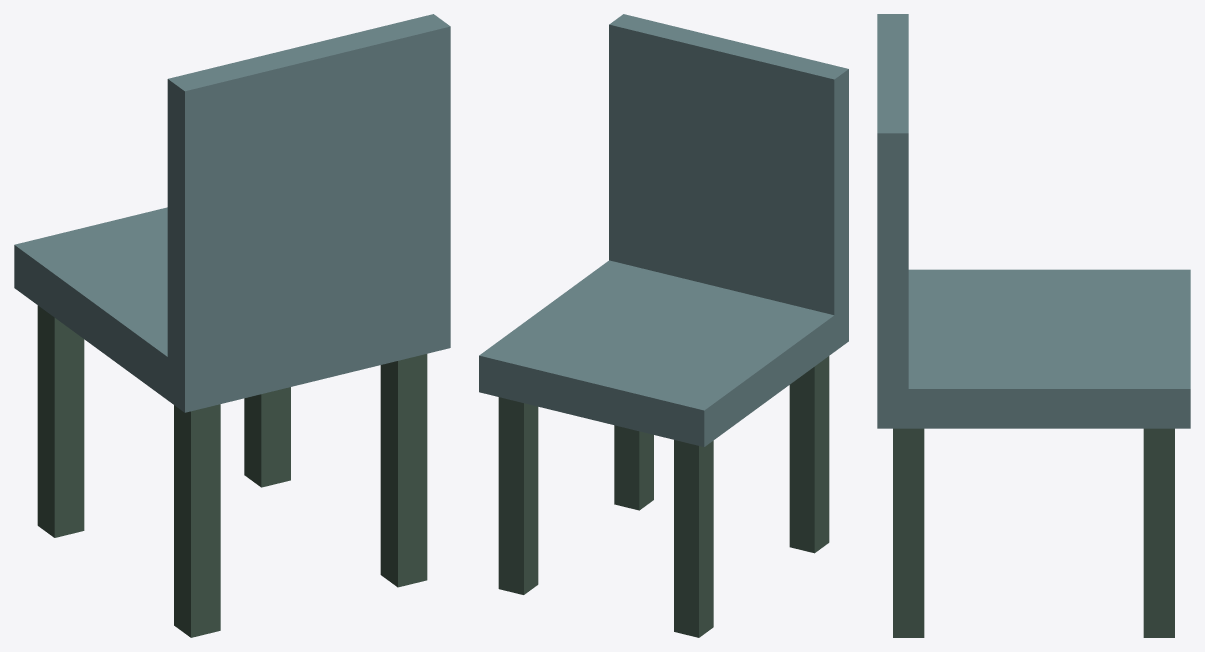
3 views of the same model, side by side, from view 1: azimuth 30°, elevation 25°; view 2: azimuth 150°, elevation 25°; view 3: azimuth 270°, elevation 25° (orthographic). The views are drawn at different scales.
Visible parts, largest first — view 1: back, seat, leg-1-1, leg-0-1, leg-0-0, leg-1-0; view 2: back, seat, leg-1-0, leg-0-0, leg-0-1, leg-1-1; view 3: seat, back, leg-1-0, leg-1-1.
Boxes of the visible parts, x1,y1,x2,y2 form: back: [167, 14, 450, 369]; seat: [14, 207, 450, 412]; leg-1-1: [380, 354, 427, 587]; leg-0-1: [174, 404, 220, 637]; leg-0-0: [37, 305, 84, 537]; leg-1-0: [244, 387, 290, 487]; back: [609, 14, 848, 315]; seat: [479, 260, 848, 446]; leg-1-0: [498, 397, 538, 594]; leg-0-0: [674, 440, 713, 637]; leg-0-1: [789, 356, 829, 553]; leg-1-1: [614, 425, 653, 510]; seat: [877, 269, 1190, 428]; back: [877, 14, 908, 388]; leg-1-0: [1143, 428, 1174, 637]; leg-1-1: [893, 428, 924, 637].
Size of the model in its own units: 0.45 by 0.9 by 0.5.
